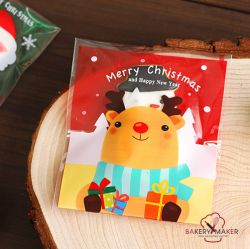Snack: (52, 35, 235, 227)
